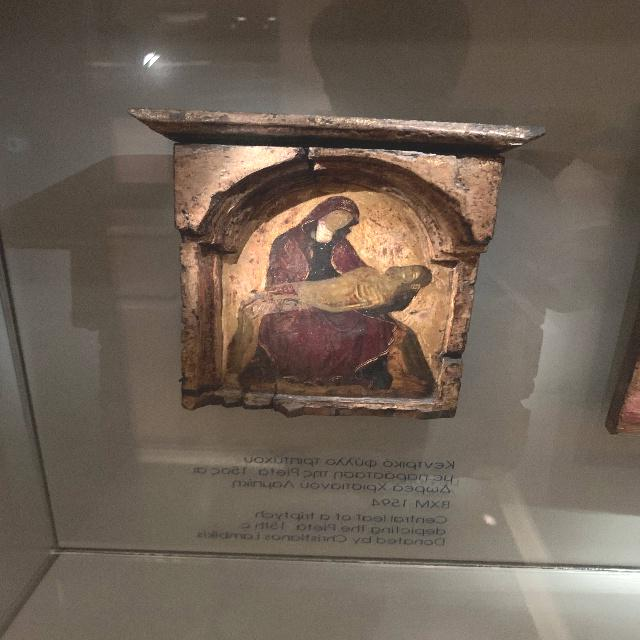christ_crucifixion: (241, 261, 439, 317)
mary: (254, 198, 401, 384)
